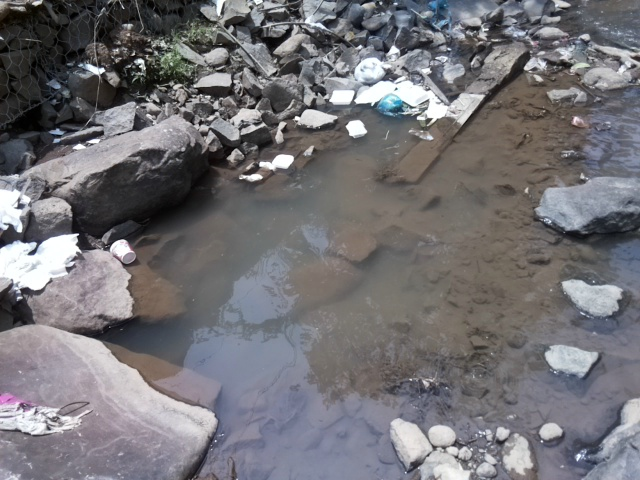Sampah_Plastik: (1, 232, 86, 291), (1, 187, 33, 233), (352, 57, 389, 83), (374, 92, 406, 118)
Sampah_Styrofoam: (355, 78, 396, 105), (396, 82, 431, 103), (259, 154, 295, 169), (345, 118, 369, 138), (327, 89, 355, 106)
